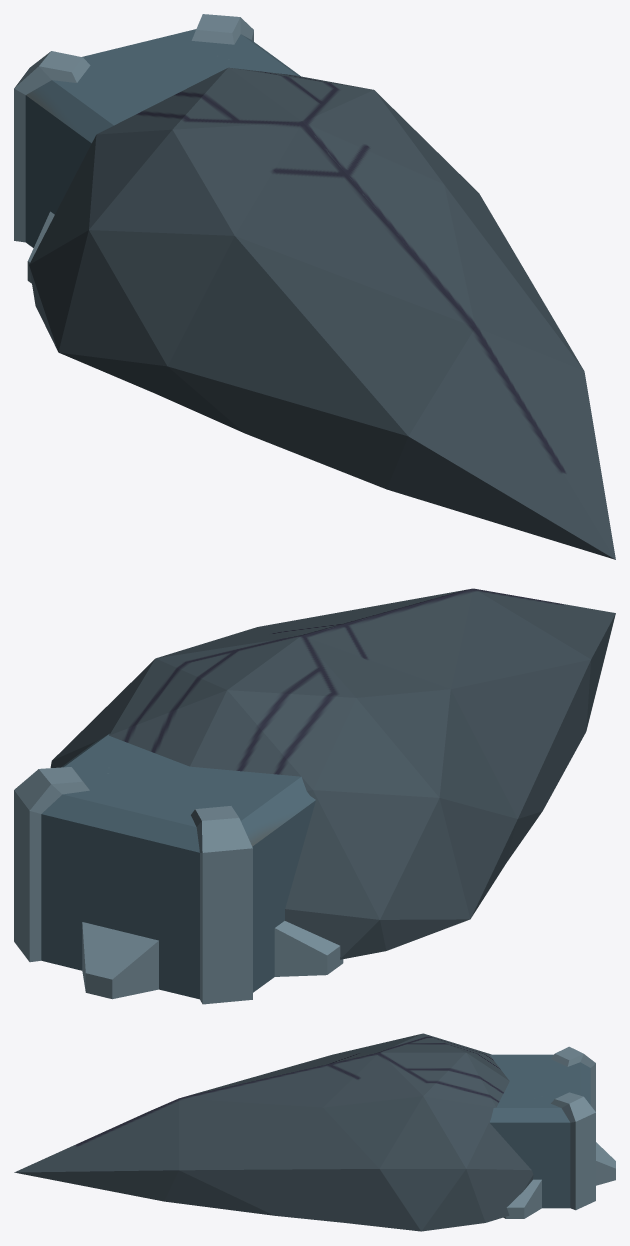
The model's file is Metal tear.fbx.
3 views of the same model, one above another, from view 1: azimuth 30°, elevation 25°; view 2: azimuth 150°, elevation 25°; view 3: azimuth 270°, elevation 25° (orthographic). The views are drawn at different scales.
Visible parts, largest first — view 1: Tear; view 2: Tear; view 3: Tear.
Part boxes in pixels (bbox=[...]): Tear: bbox=[14, 14, 615, 559]; Tear: bbox=[14, 588, 615, 1004]; Tear: bbox=[14, 1033, 615, 1231].
Size of the model in its own units: 127 by 275 by 62.4.
